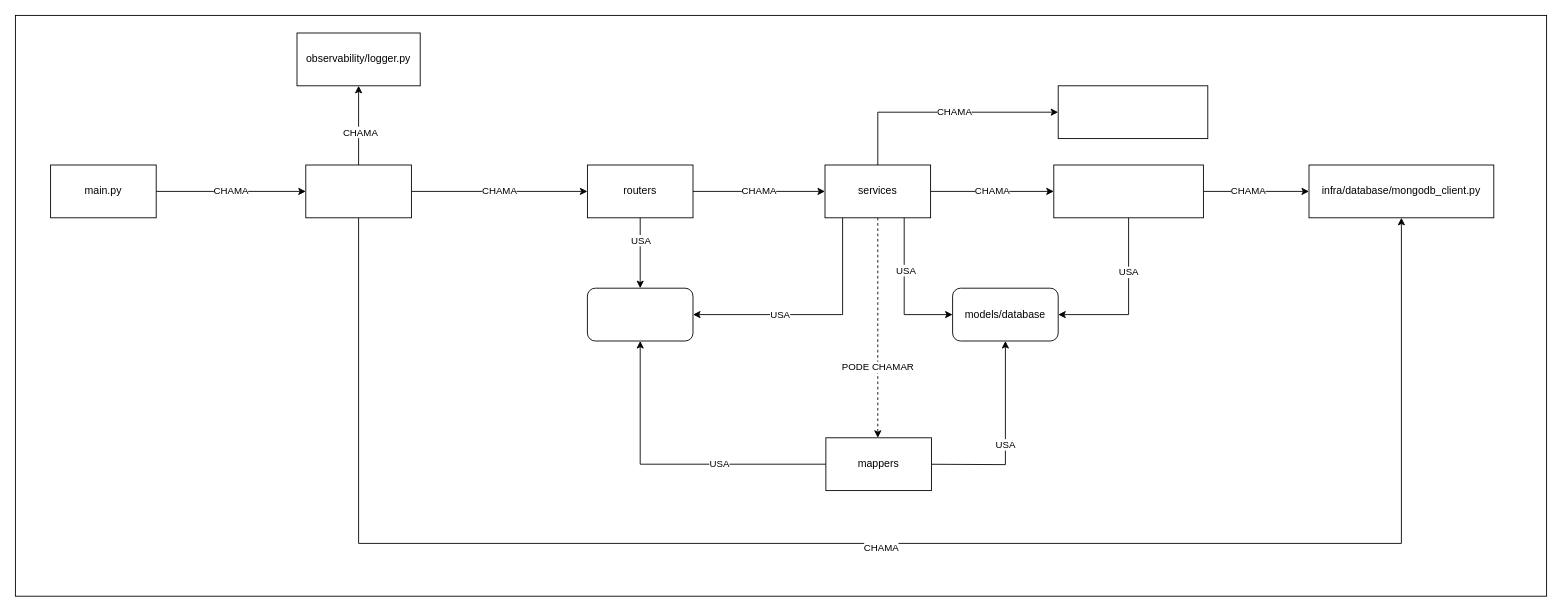
This 1562x612 diagram has some shape labels left out. Each missing label, with the centre of its shape:
infra/azure: the point at 1132,112
infra/database/repositories: the point at 1128,191
models/rest: the point at 640,314
server.py: the point at 358,191
